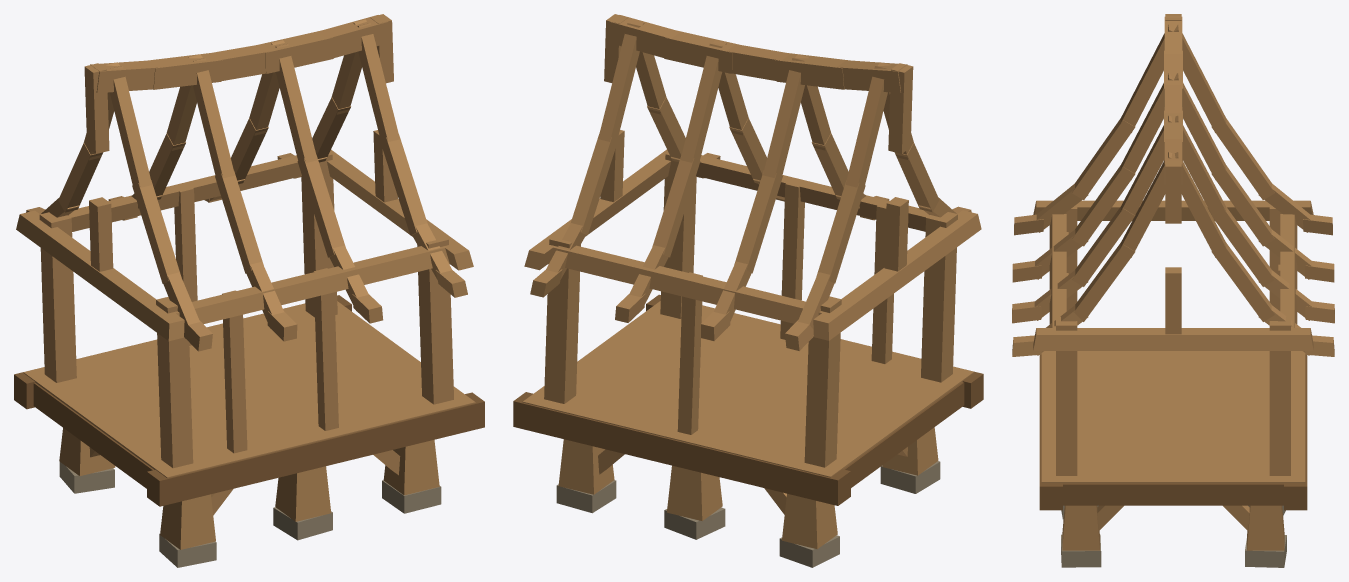
File: chicken-coop-frame.glb
3 views of the same model, side by side, from view 1: azimuth 30°, elevation 25°; view 2: azimuth 150°, elevation 25°; view 3: azimuth 270°, elevation 25° (orthographic). The views are drawn at different scales.
Visible parts, largest first — view 1: timber_frame, floor_deck, floor_frame, legs, stone_shoes; view 2: timber_frame, floor_deck, floor_frame, legs, stone_shoes; view 3: timber_frame, floor_deck, floor_frame, legs, stone_shoes.
Boxes of the visible parts, x1,y1,x2,y2 form: timber_frame: (16,14,473,468); floor_deck: (23,301,475,478); floor_frame: (14,295,484,506); legs: (59,428,439,549); stone_shoes: (59,462,441,567); timber_frame: (524,14,981,467); floor_deck: (522,301,974,477); floor_frame: (513,294,983,505); legs: (558,427,938,549); stone_shoes: (556,461,940,567); timber_frame: (1012,14,1334,475); floor_deck: (1041,351,1305,483); floor_frame: (1039,354,1307,510); legs: (1062,505,1284,550); stone_shoes: (1061,505,1286,567).
Bounding box in the file's own units: 1.92 × 2.6 × 1.8.
